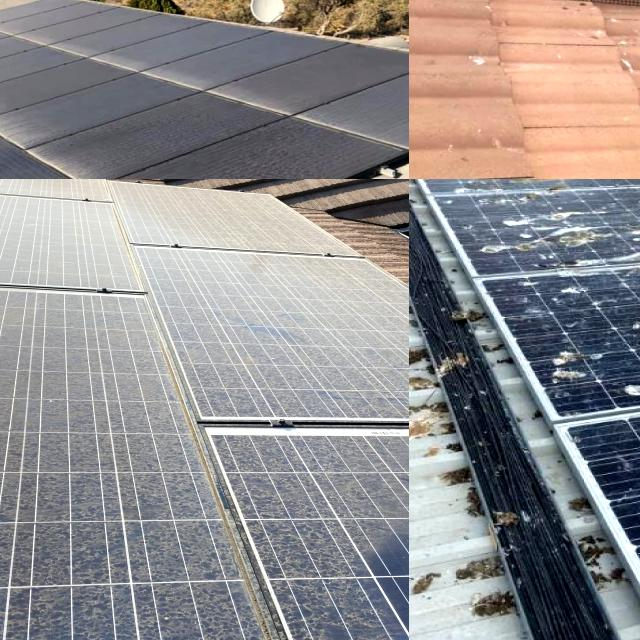crack: (428, 0, 640, 102), (409, 0, 640, 76), (409, 0, 640, 52), (409, 0, 640, 47)
dust: (111, 36, 399, 142), (62, 396, 185, 534), (61, 548, 246, 638), (251, 441, 359, 584), (207, 334, 371, 404), (0, 398, 84, 528), (66, 128, 278, 179), (0, 55, 84, 179), (162, 255, 292, 333), (0, 48, 78, 167), (132, 190, 288, 248), (0, 203, 94, 276), (0, 549, 70, 640), (0, 320, 80, 389), (72, 333, 165, 390), (0, 72, 57, 156), (378, 447, 409, 593), (332, 278, 402, 334), (0, 25, 124, 55)
